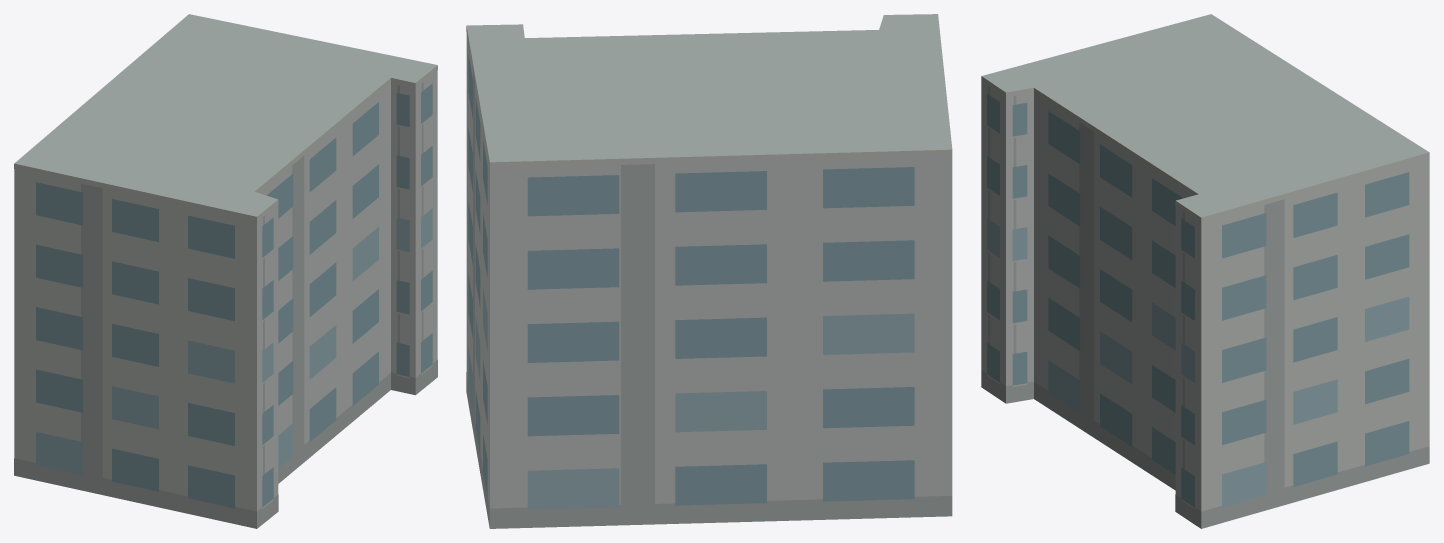
The model's file is survey-upis-32886003.glb.
3 views of the same model, side by side, from view 1: azimuth 30°, elevation 25°; view 2: azimuth 150°, elevation 25°; view 3: azimuth 270°, elevation 25° (orthographic). The views are drawn at different scales.
Parts seen in each view (by area): view 1: survey-upis-32886003.tmp; view 2: survey-upis-32886003.tmp; view 3: survey-upis-32886003.tmp.
Part boxes in pixels (box(x1,y1,x2,y2)): survey-upis-32886003.tmp: box(14, 14, 437, 528); survey-upis-32886003.tmp: box(466, 14, 952, 528); survey-upis-32886003.tmp: box(981, 14, 1429, 528).
Size of the model in its own units: 20.08 by 14.3 by 18.68.
